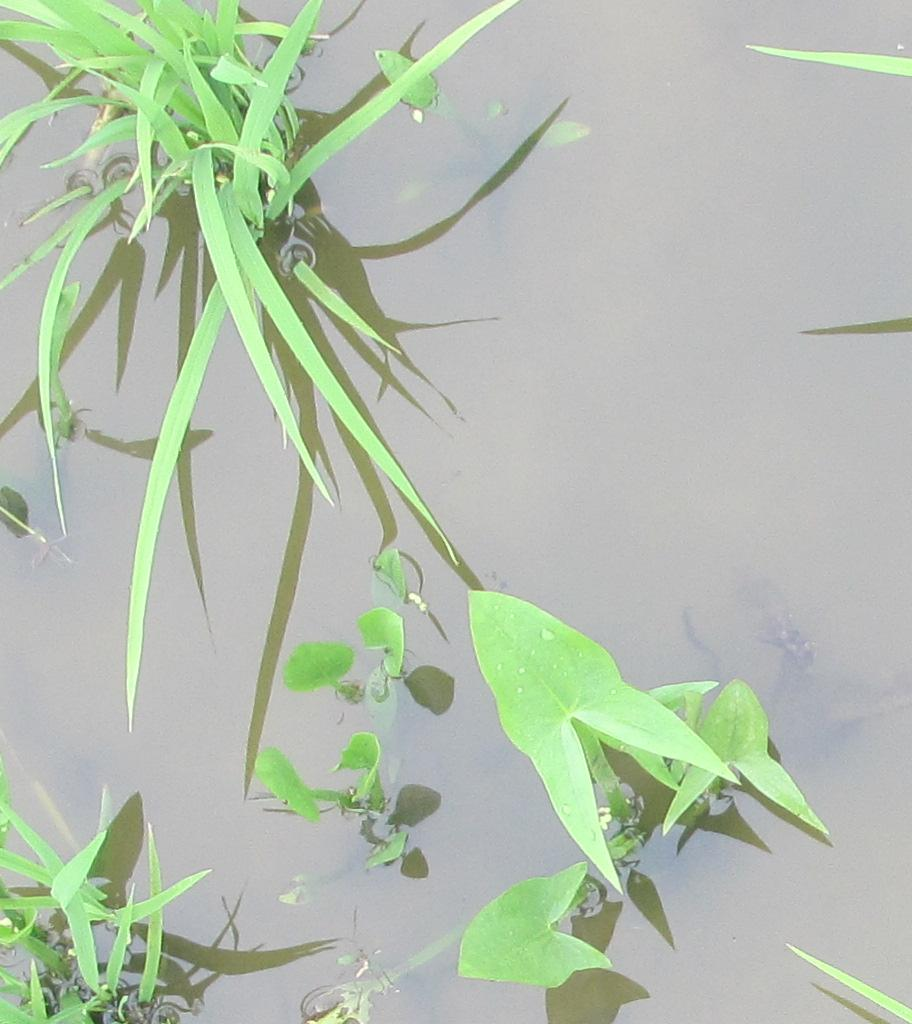Weed: (465, 585, 828, 841), (281, 610, 404, 813), (454, 861, 615, 991)
